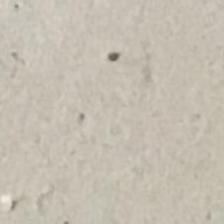Non_Crack: (20, 72, 210, 210)
